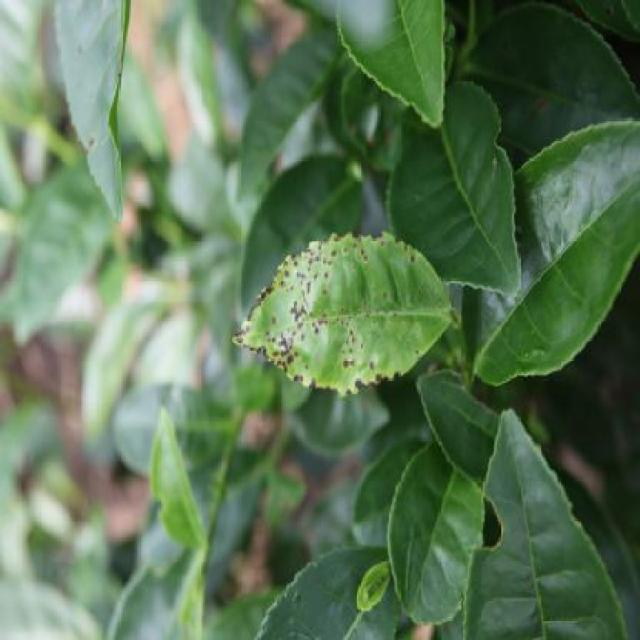Tea Mosquito bug infested leaf: (230, 222, 448, 400)
